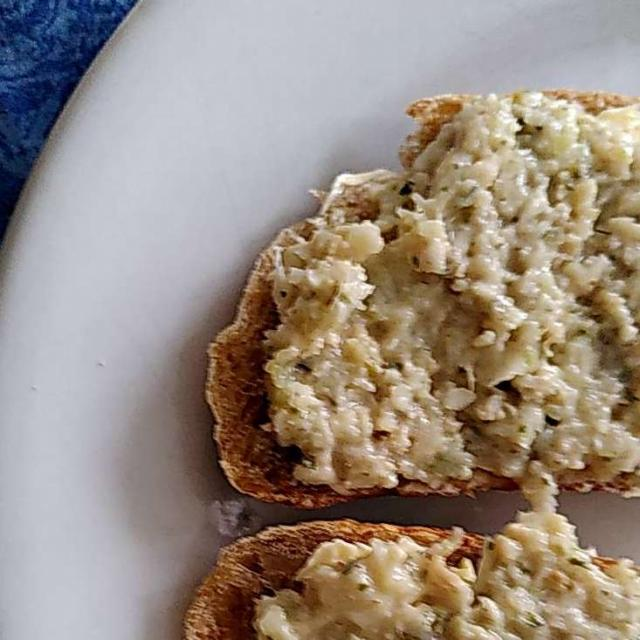bread-whole-wheat: (193, 91, 631, 627)
cauliflower: (262, 107, 628, 617)
